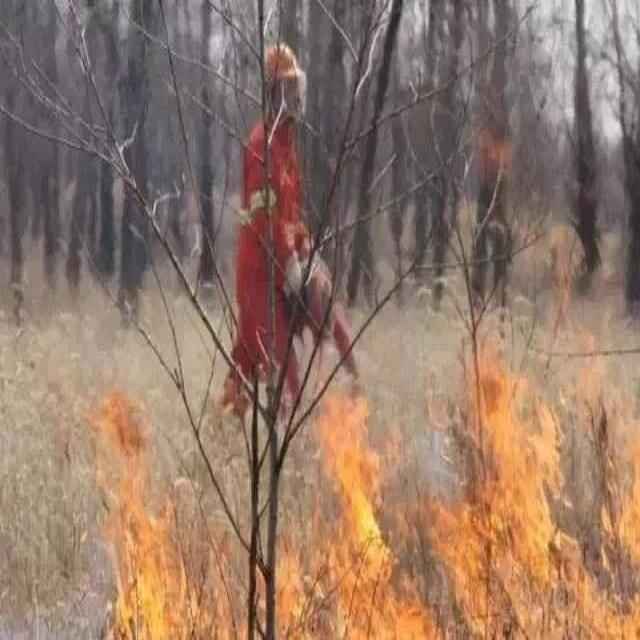fire: (76, 234, 633, 631)
